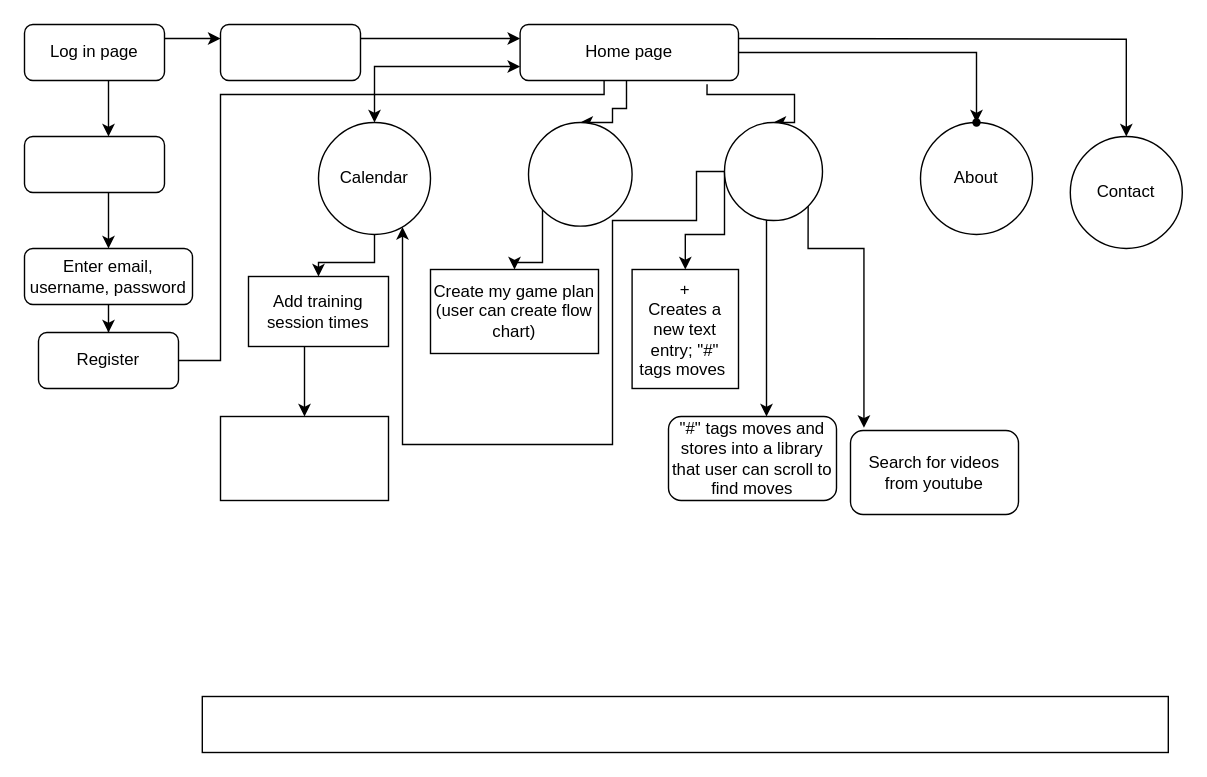
The diagram is 1207 pixels wide and 777 high, and some of its shapes have lost their labels. The shapes that lost their labels are listed below. From the top down, each one's centre as x and y in pixels, then its label:
point (289, 51): Enter username and password
point (93, 163): Sign Up
point (579, 173): Game Plan
point (772, 170): My Training
point (303, 457): Red if upcoming, green to confirm you attended; this tracks time on home page
point (684, 723): all pages have navigation bar at the bottom
